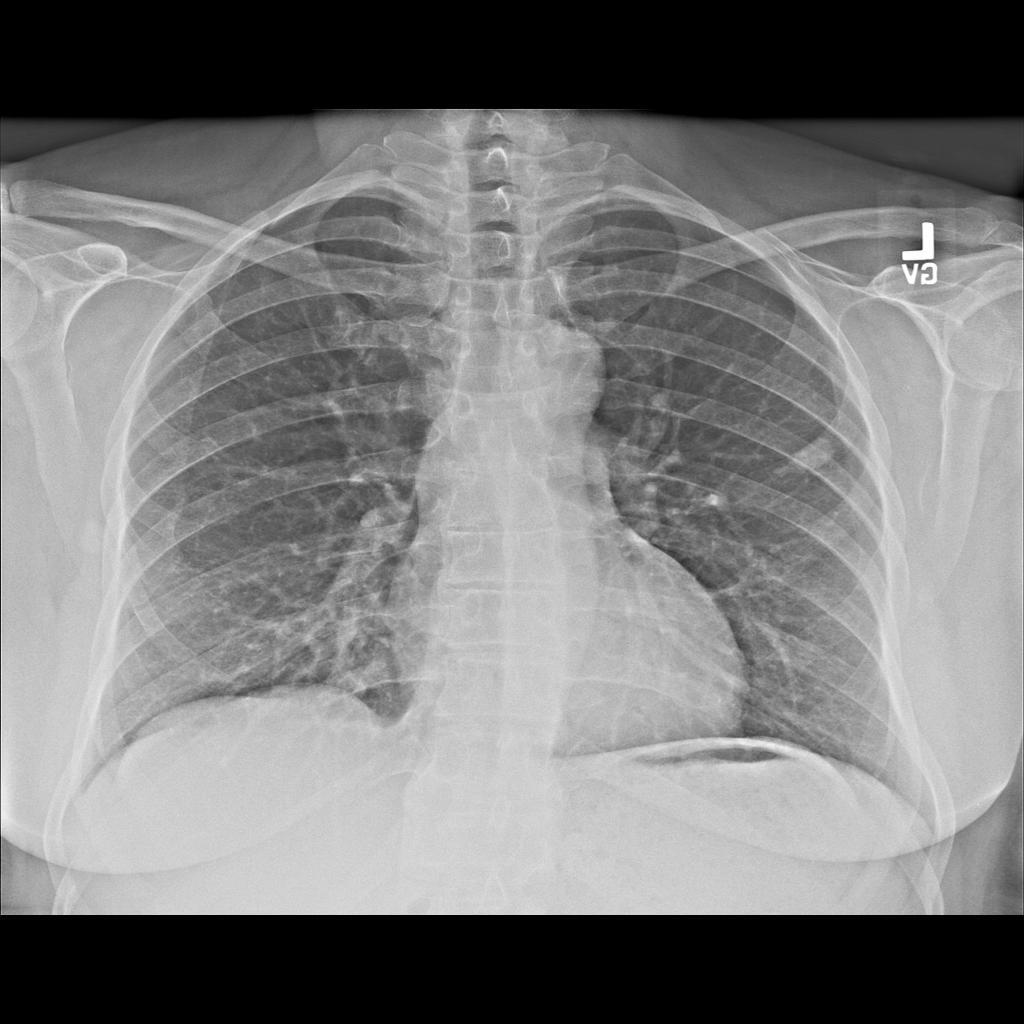Nodule: (795, 434, 840, 479)
